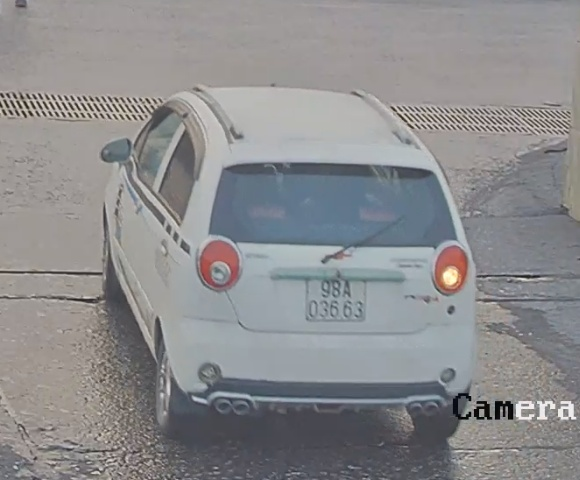vehicle plate: (301, 274, 367, 320)
